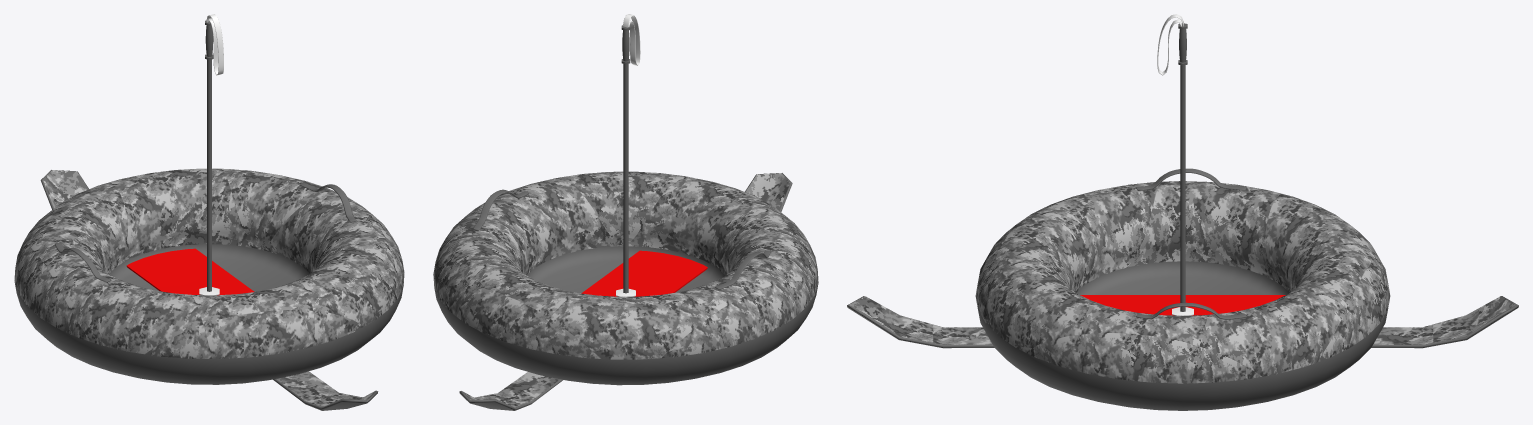
The model's file is skate things.fbx.
The picture shows the model from 3 angles, left to right: view 1: azimuth 30°, elevation 25°; view 2: azimuth 150°, elevation 25°; view 3: azimuth 270°, elevation 25°; orthographic projection. The views are drawn at different scales.
Parts seen in each view (by area): view 1: wheel, board, shateboard, stick; view 2: wheel, board, shateboard, stick; view 3: wheel, shateboard, board, stick.
Boxes of the visible parts, x1,y1,x2,y2 form: wheel: [14, 168, 404, 384]; board: [126, 248, 254, 295]; shateboard: [40, 170, 378, 410]; stick: [199, 14, 223, 295]; wheel: [433, 171, 818, 385]; board: [581, 250, 707, 296]; shateboard: [459, 173, 792, 410]; stick: [616, 14, 640, 296]; wheel: [975, 168, 1390, 410]; shateboard: [847, 296, 1518, 348]; board: [1080, 295, 1285, 315]; stick: [1157, 14, 1193, 315].
Bounding box in the file's own units: 138 × 128 × 223.
7 materials, 1 textured.
